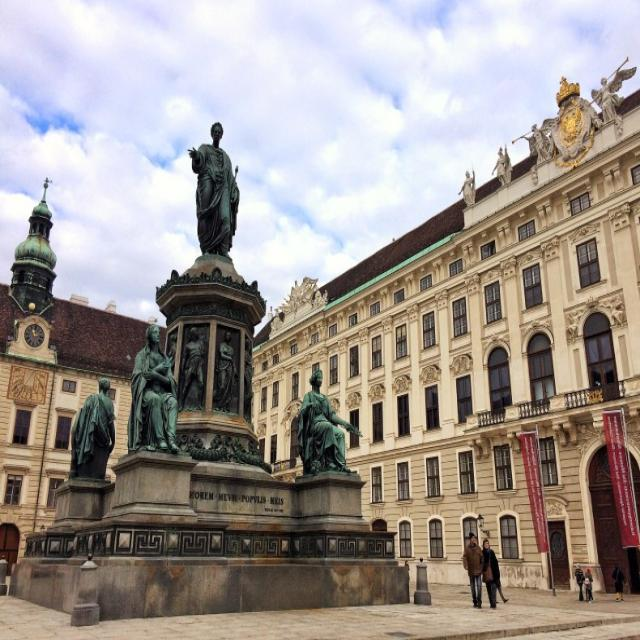body: (126, 323, 255, 452), (188, 118, 240, 263), (297, 368, 362, 475), (68, 374, 118, 484), (588, 55, 636, 130), (461, 530, 485, 608), (515, 120, 557, 158), (481, 536, 502, 610), (491, 140, 514, 192), (489, 548, 510, 604), (456, 166, 478, 208), (610, 560, 629, 602), (573, 559, 585, 601), (582, 567, 594, 602)
